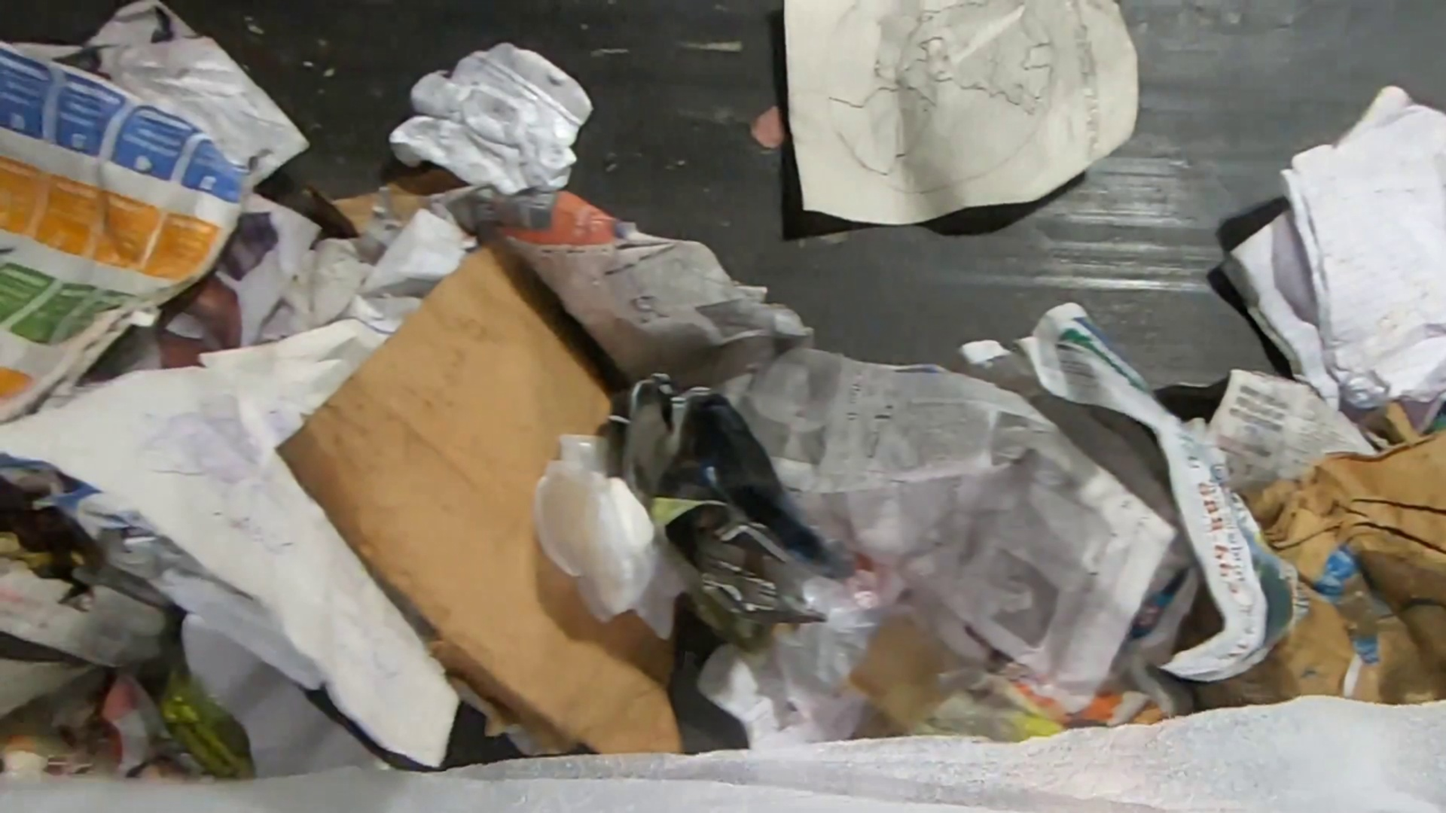cardboard: (275, 236, 687, 759), (1189, 398, 1446, 712)
plastic: (535, 435, 704, 641)
